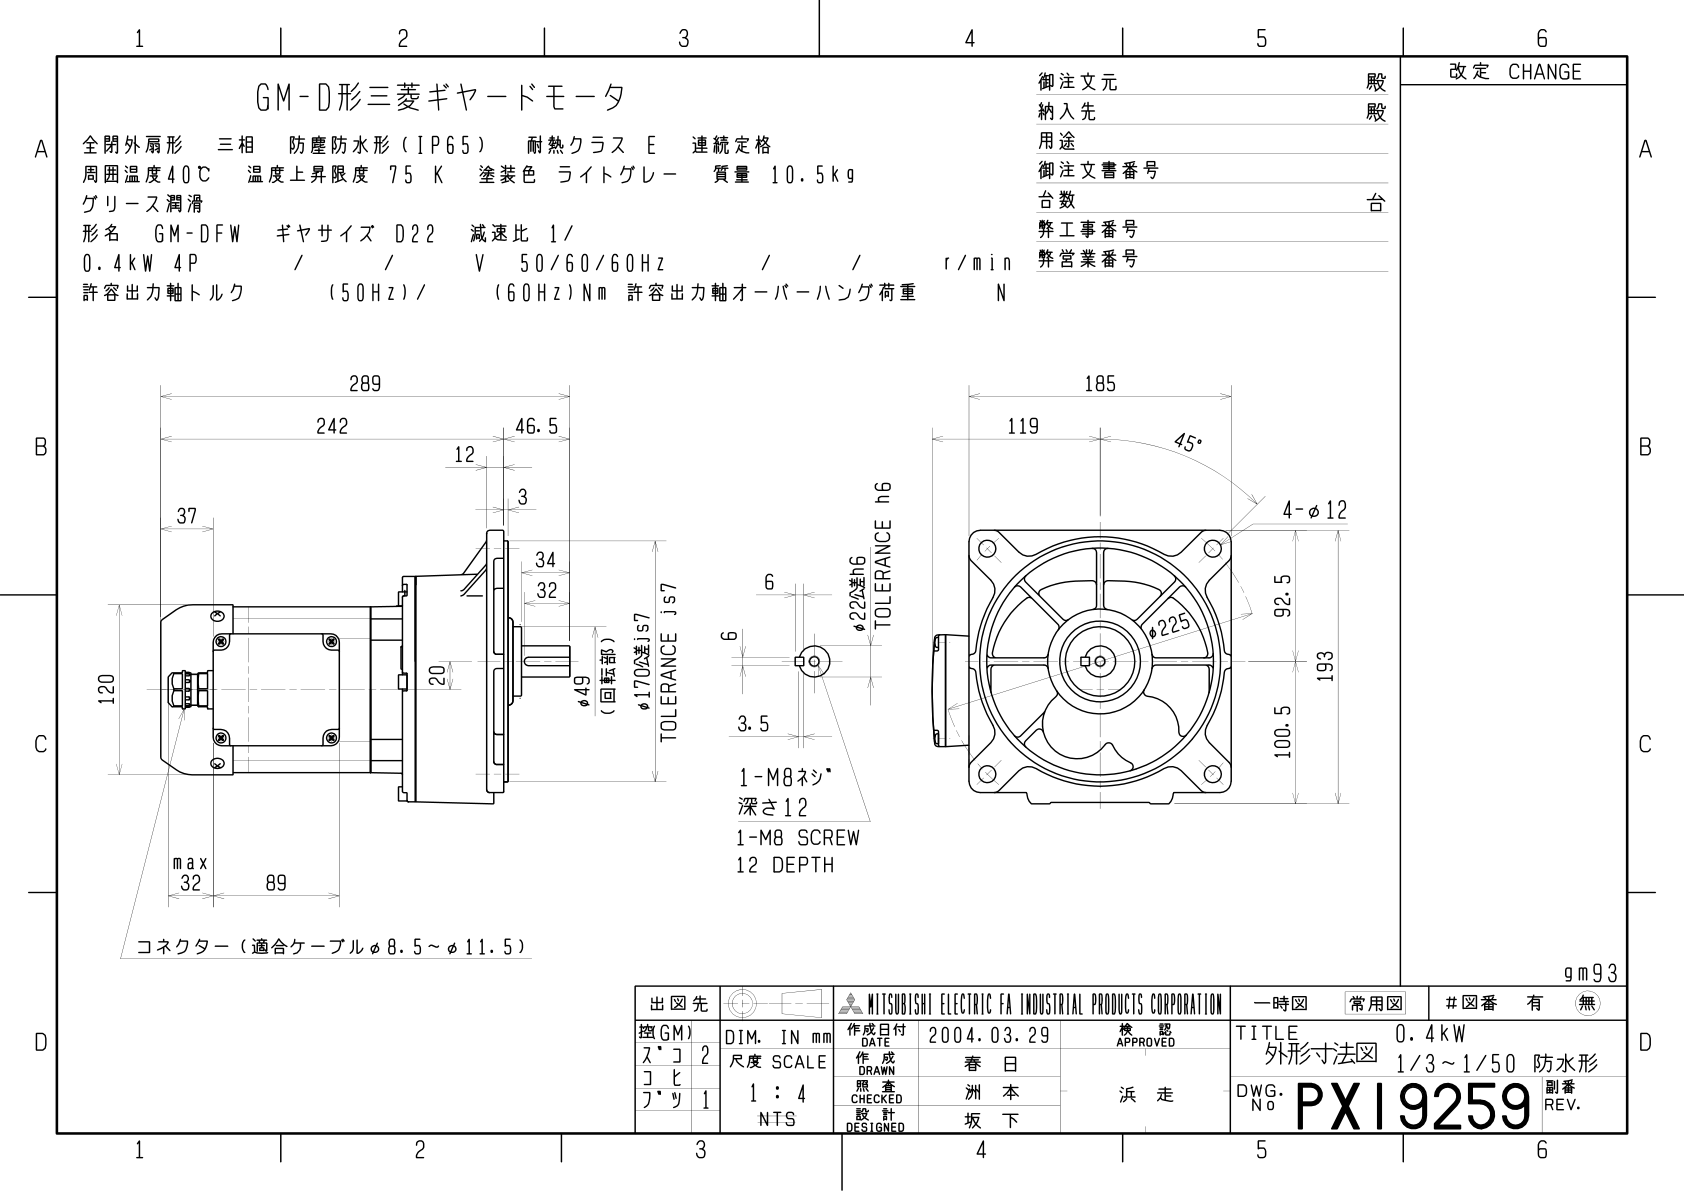GM_D_IP65_三相_フランジ: (79, 339, 1401, 963)
